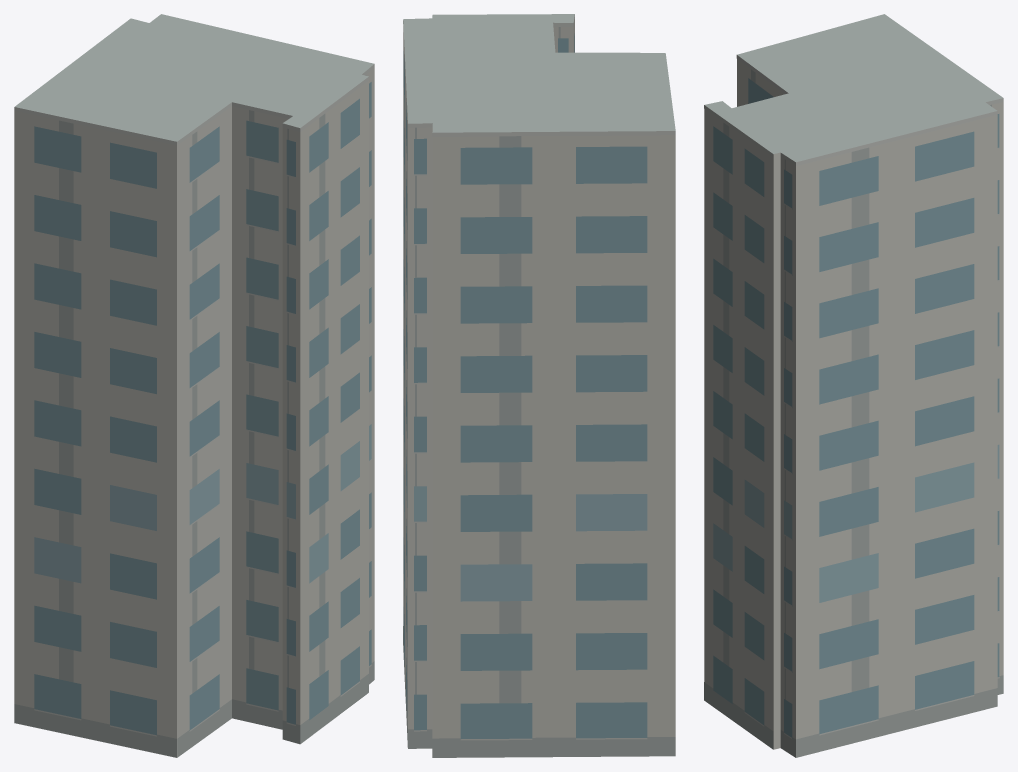
The model's file is survey-upis-32967547.glb.
3 views of the same model, side by side, from view 1: azimuth 30°, elevation 25°; view 2: azimuth 150°, elevation 25°; view 3: azimuth 270°, elevation 25° (orthographic). The views are drawn at different scales.
Parts seen in each view (by area): view 1: survey-upis-32967547.tmp; view 2: survey-upis-32967547.tmp; view 3: survey-upis-32967547.tmp.
Boxes of the visible parts, x1,y1,x2,y2 form: survey-upis-32967547.tmp: (14, 14, 374, 757); survey-upis-32967547.tmp: (403, 14, 675, 757); survey-upis-32967547.tmp: (704, 14, 1003, 757).
Size of the model in its own units: 20.12 by 37.65 by 17.17.
